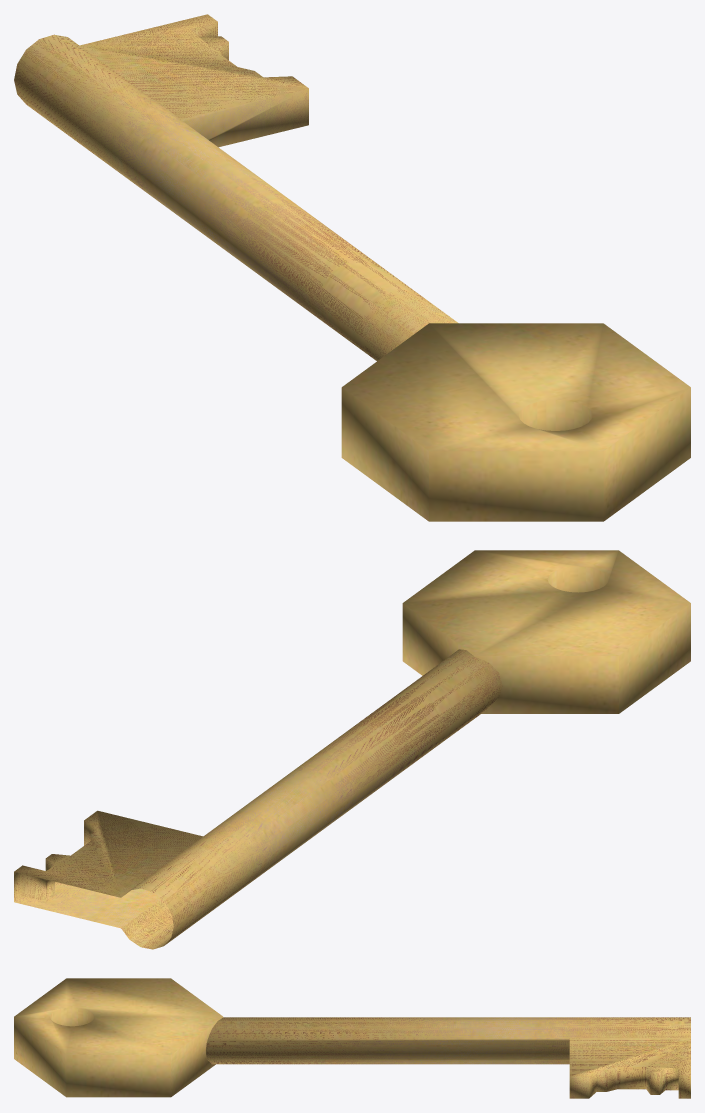
The model's file is Key.dae.
The picture shows the model from 3 angles, top to bottom: view 1: azimuth 30°, elevation 25°; view 2: azimuth 150°, elevation 25°; view 3: azimuth 270°, elevation 25°; orthographic projection. The views are drawn at different scales.
Parts seen in each view (by area): view 1: Lock___key_1 (×3); view 2: Lock___key_1 (×3); view 3: Lock___key_1 (×3).
Boxes of the visible parts, x1,y1,x2,y2 form: Lock___key_1 (×3): (14, 14, 690, 521); Lock___key_1 (×3): (14, 550, 690, 949); Lock___key_1 (×3): (14, 978, 690, 1098).
Bounding box in the file's own units: 44.44 × 145 × 10.12.
2 materials, 2 textured.
